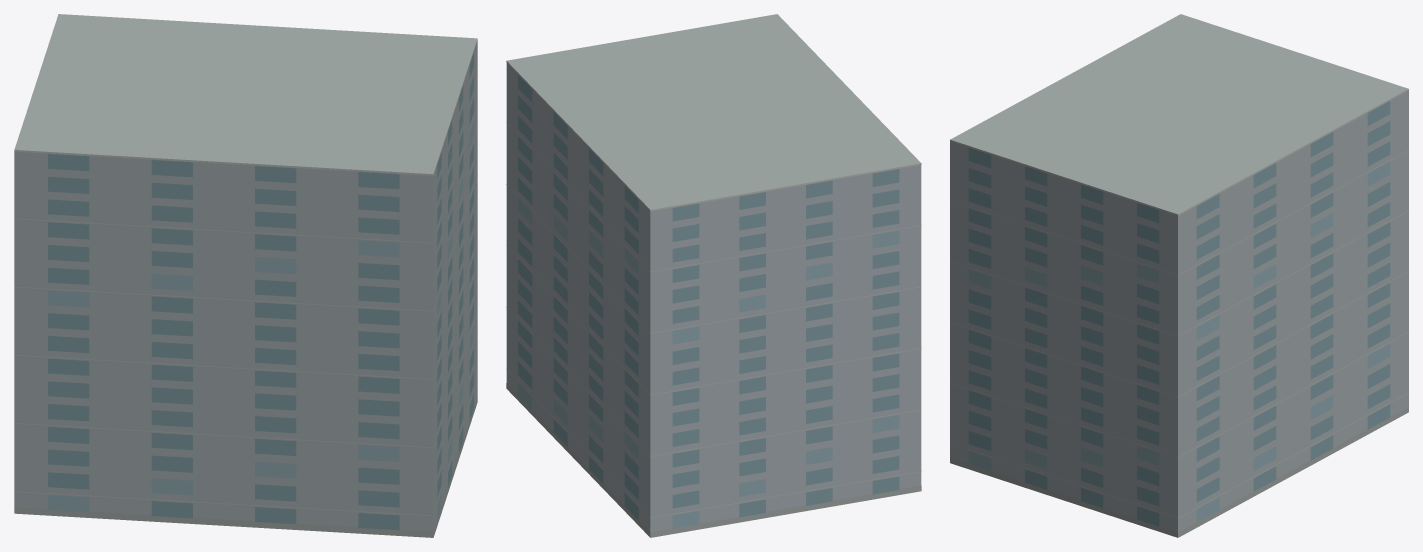
File: residential-31b28624-cd44-447f-b829-5bac3c3a83c3.glb
3 views of the same model, side by side, from view 1: azimuth 30°, elevation 25°; view 2: azimuth 150°, elevation 25°; view 3: azimuth 270°, elevation 25° (orthographic). The views are drawn at different scales.
Visible parts, largest first — view 1: residential-31b28624-cd44-447f-b829-5bac3c3a83c3.tmp; view 2: residential-31b28624-cd44-447f-b829-5bac3c3a83c3.tmp; view 3: residential-31b28624-cd44-447f-b829-5bac3c3a83c3.tmp.
Part boxes in pixels (box(x1,y1,x2,y2)): residential-31b28624-cd44-447f-b829-5bac3c3a83c3.tmp: box(14, 14, 477, 537); residential-31b28624-cd44-447f-b829-5bac3c3a83c3.tmp: box(506, 14, 921, 537); residential-31b28624-cd44-447f-b829-5bac3c3a83c3.tmp: box(950, 14, 1408, 537).
Size of the model in its own units: 67.78 by 51 by 65.57.
